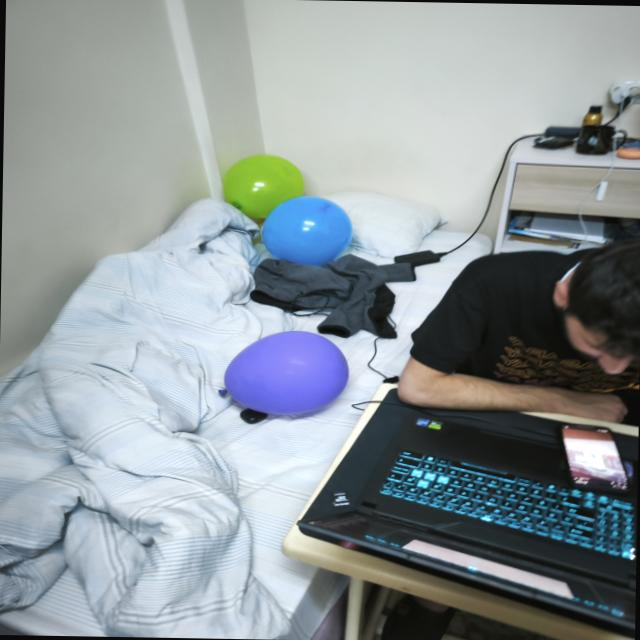balloon: (262, 196, 352, 265), (223, 154, 304, 217)
